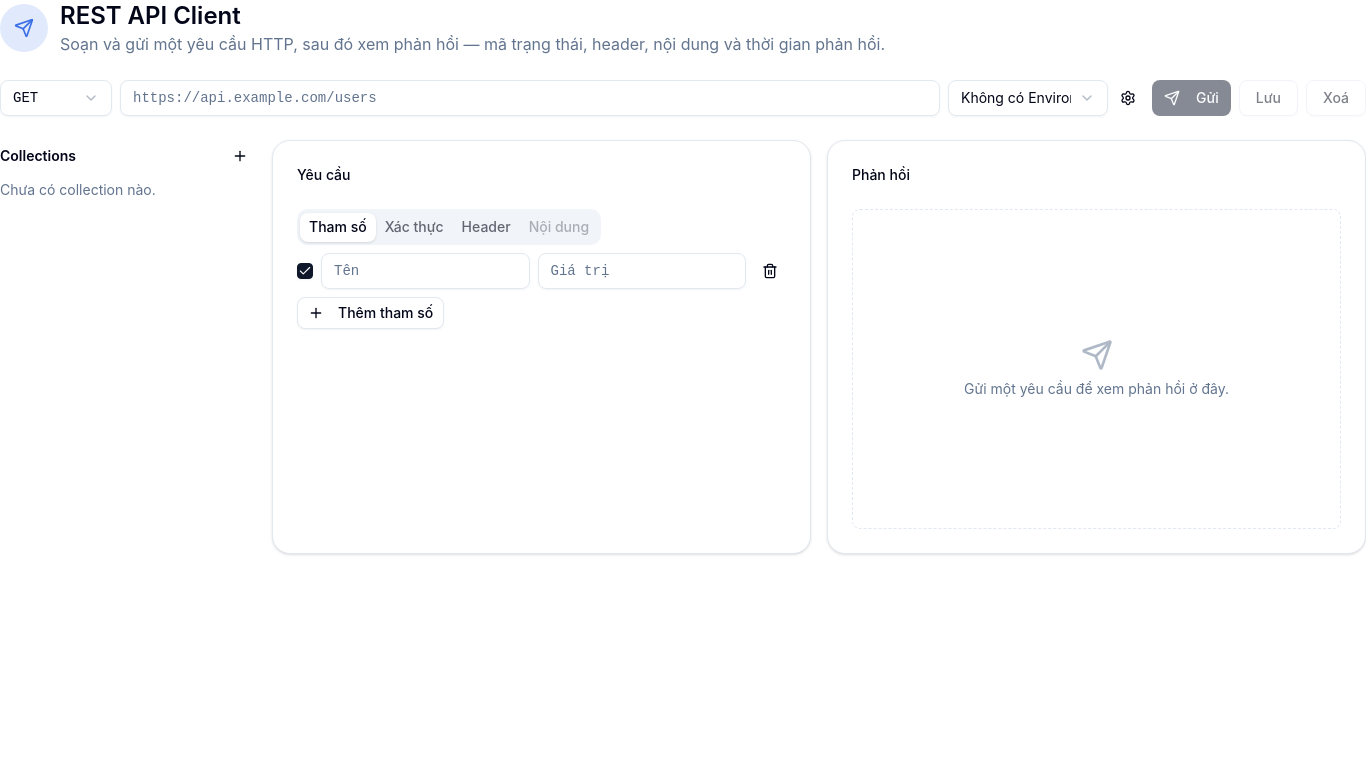
Test: RestApiClientScreen › opens the save dialog when Save is clicked with nothing loaded
This screenshot has width=1366, height=768.
Type "https://api.example.com" into the field named "URL yêu cầu".
click(530, 98); type("https://api.example.com")  # box [120,80,940,116]
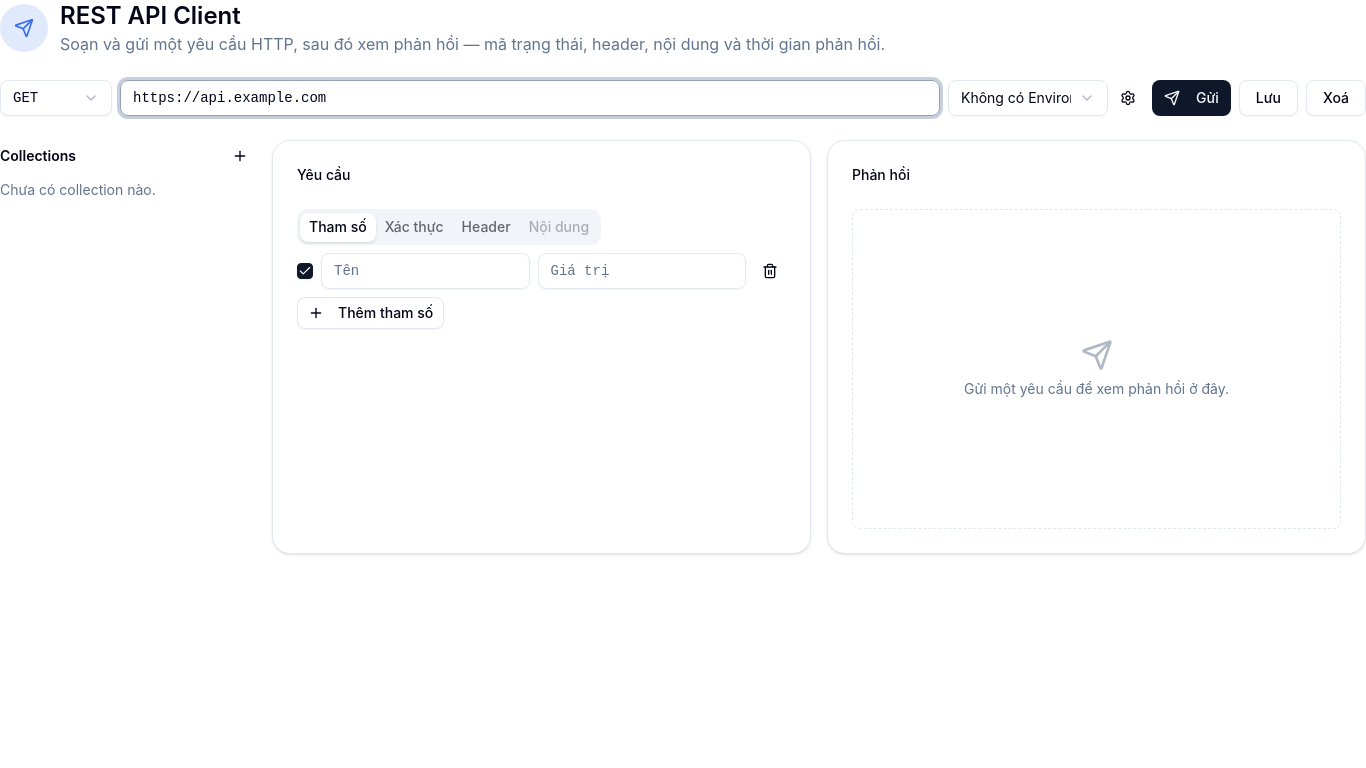
Click the button "Lưu".
click(1268, 98)  # box [1239,80,1298,116]
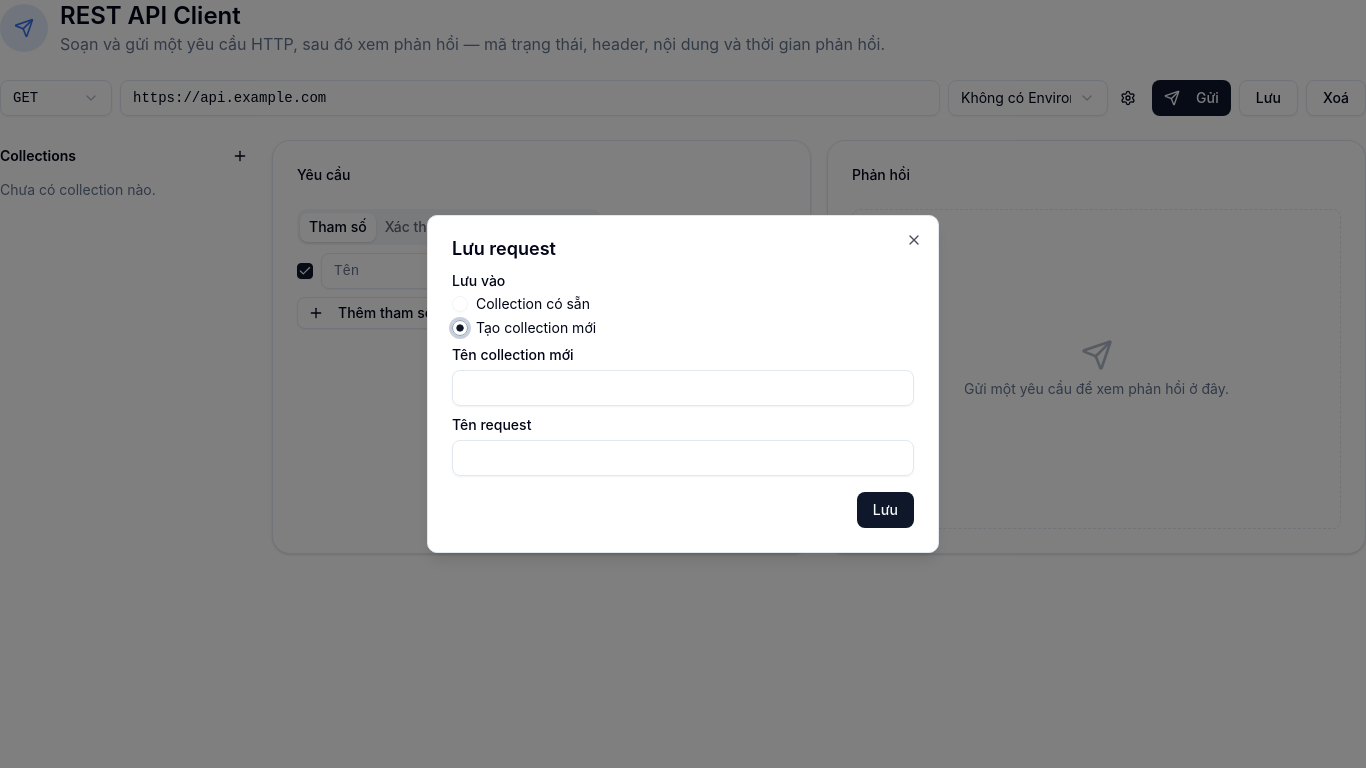
Check: the heading "Lưu request" is shown, box [452,238,556,259]
